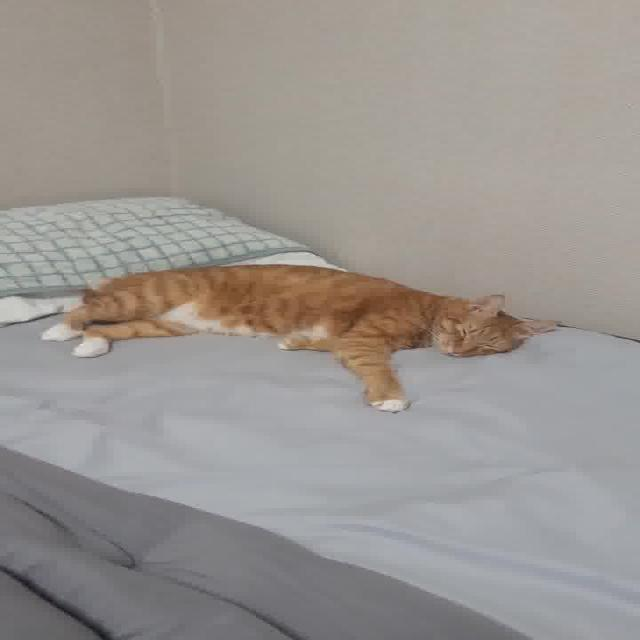cat: (0, 234, 590, 434)
